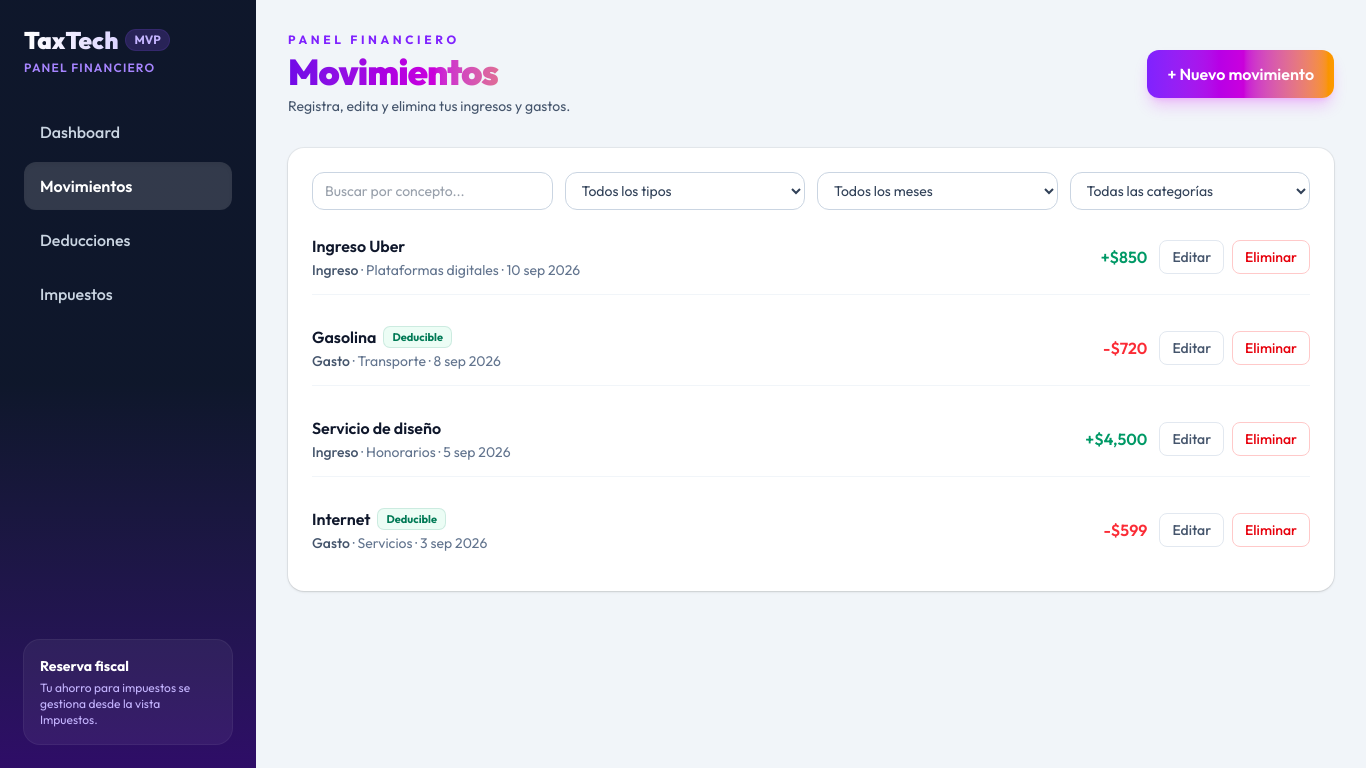
Test: App — recálculo al cambiar un movimiento › actualiza el resumen (saldo neto) tras editar un gasto
expect the text "Ingreso Uber" is shown: met, box x1=312 y1=234 x2=405 y2=258
Click the button "Editar" next to "$720" at (1192, 348), box x1=1159 y1=331 x2=1224 y2=365
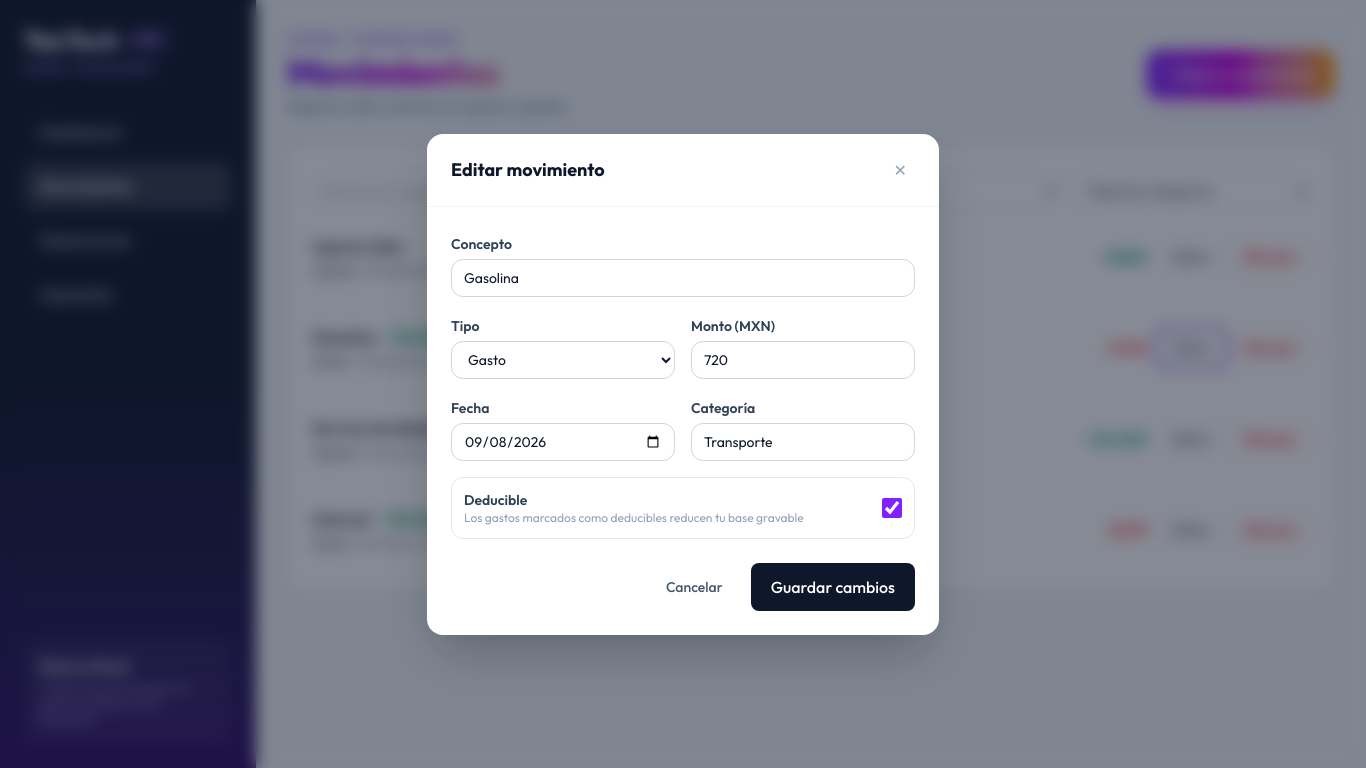
Replace the text in the number field labelled "Monto (MXN)" with "2000" at (803, 360), box x1=691 y1=340 x2=915 y2=378
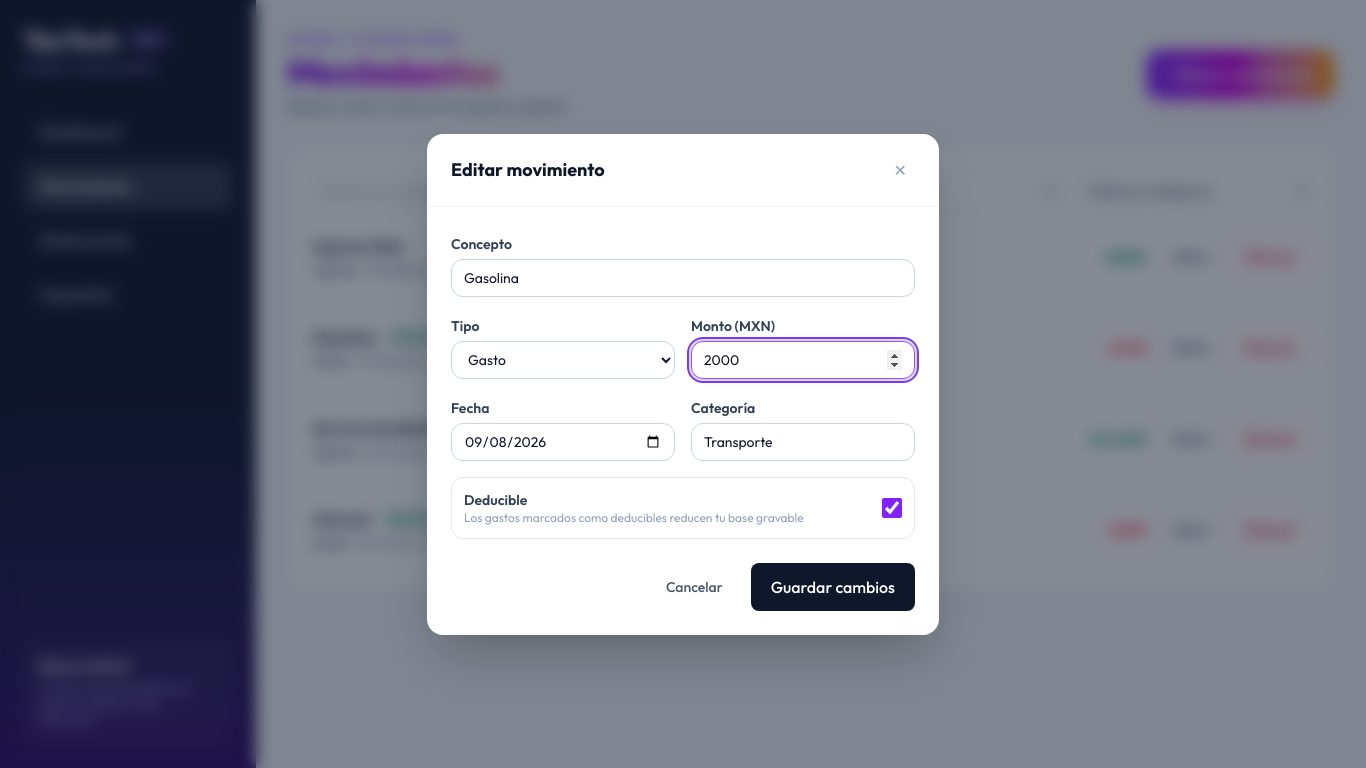
Click the button "Guardar cambios" at (833, 586), box x1=751 y1=562 x2=915 y2=610
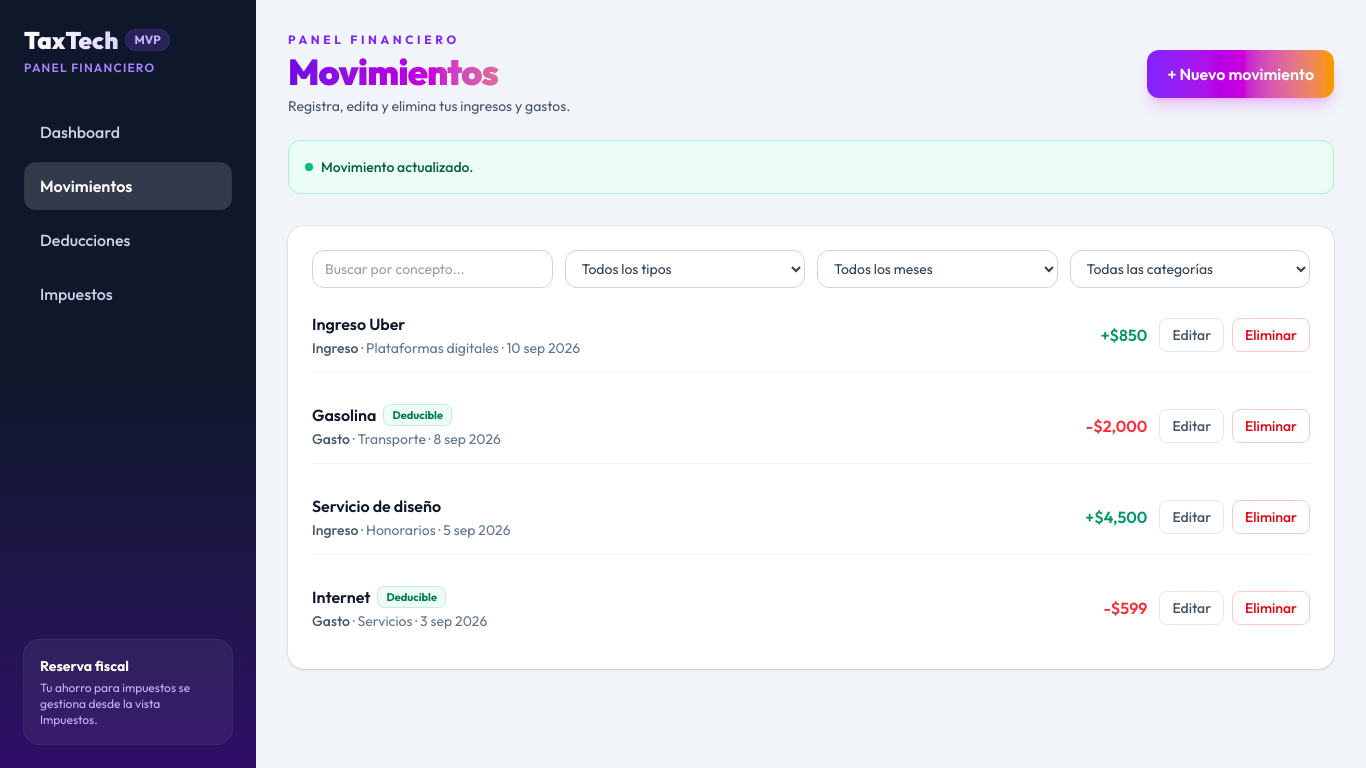
expect the text "Movimiento actualizado." is shown: met, box x1=288 y1=140 x2=1334 y2=194
Click the link "Dashboard" at (80, 132), box x1=40 y1=122 x2=120 y2=142
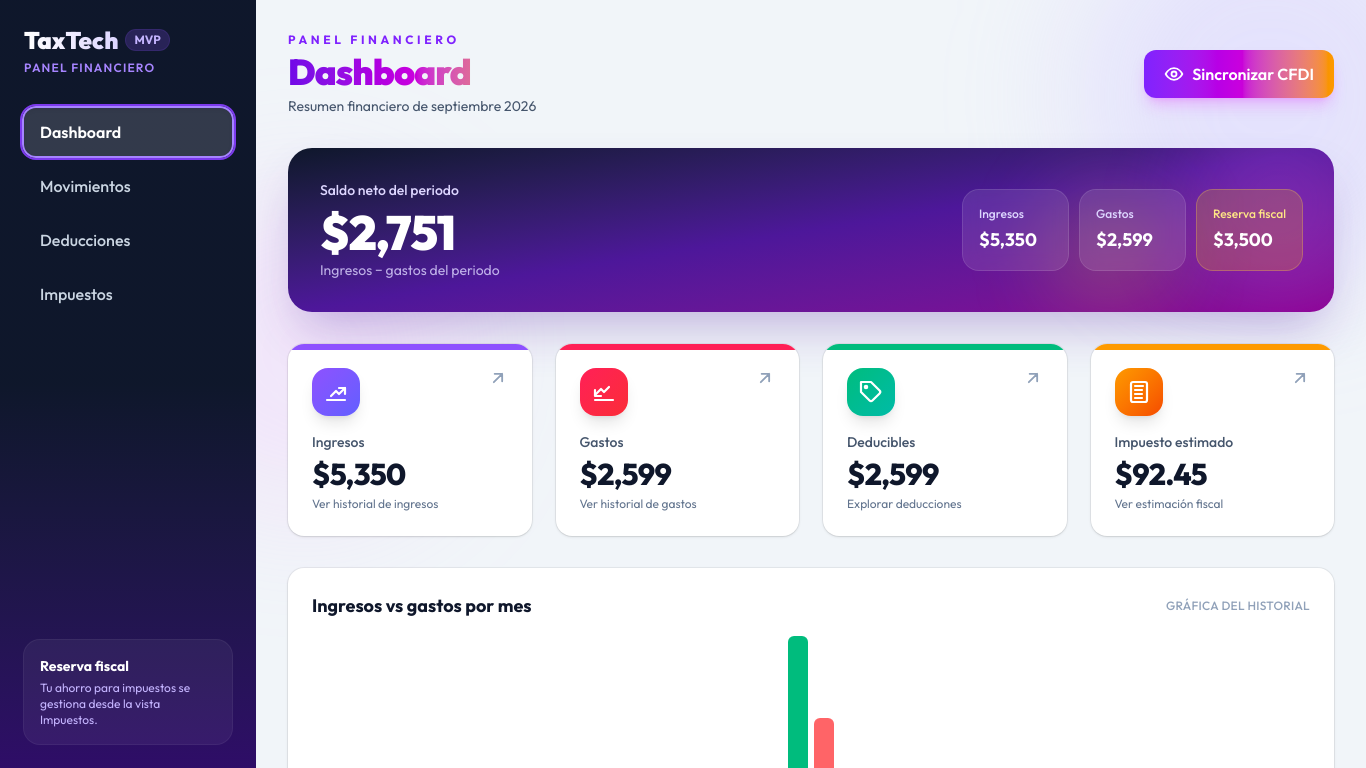
expect the text "$2,751" is shown: met, box x1=320 y1=202 x2=455 y2=262
